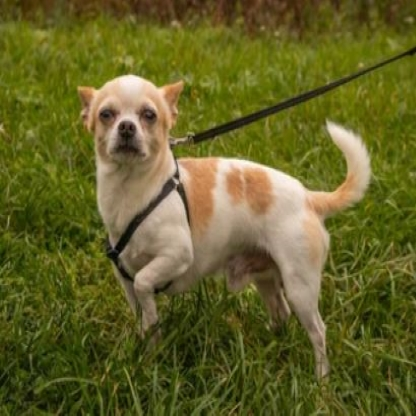chihuahua: (73, 75, 372, 383)
